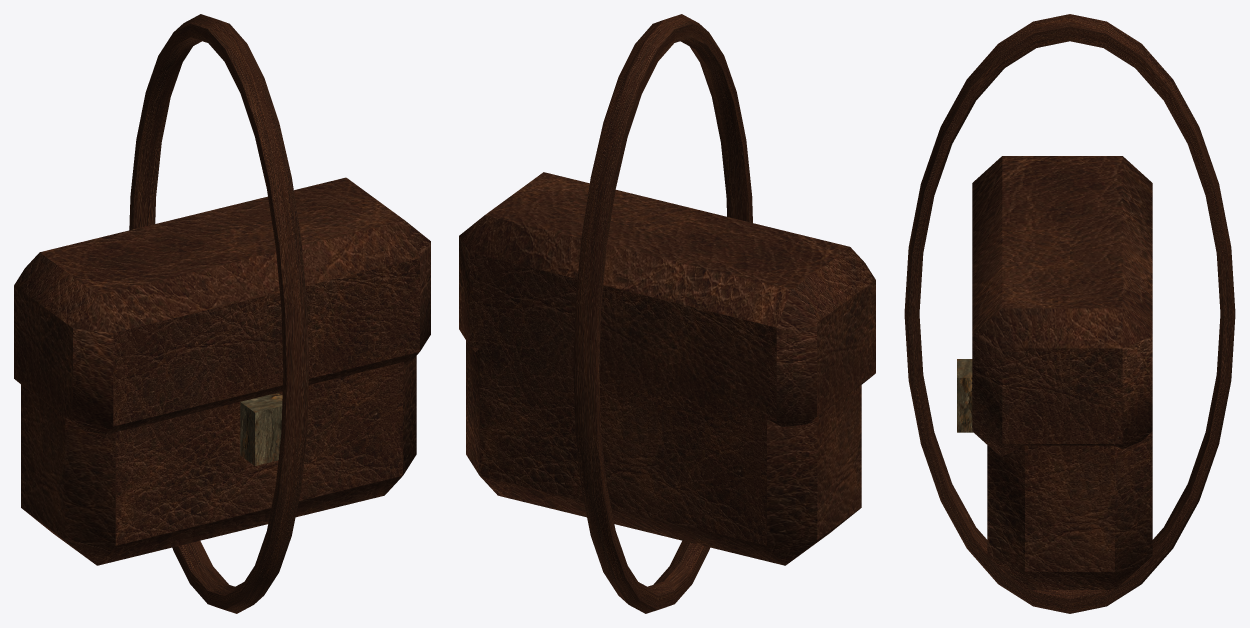
Rendered from leather-satchel-v01-photo.glb.
3 renders of one model, left to right at view 1: azimuth 30°, elevation 25°; view 2: azimuth 150°, elevation 25°; view 3: azimuth 270°, elevation 25°, orthographic.
Visible parts, largest first — view 1: leather-satchel; view 2: leather-satchel; view 3: leather-satchel.
Boxes of the visible parts, left/top/right/bottom form: leather-satchel: left=14, top=14, right=430, bottom=613; leather-satchel: left=459, top=14, right=875, bottom=613; leather-satchel: left=904, top=14, right=1235, bottom=613.
Size of the model in its own units: 0.56 by 0.88 by 0.44.
Materials: 2 (2 with a texture image).
